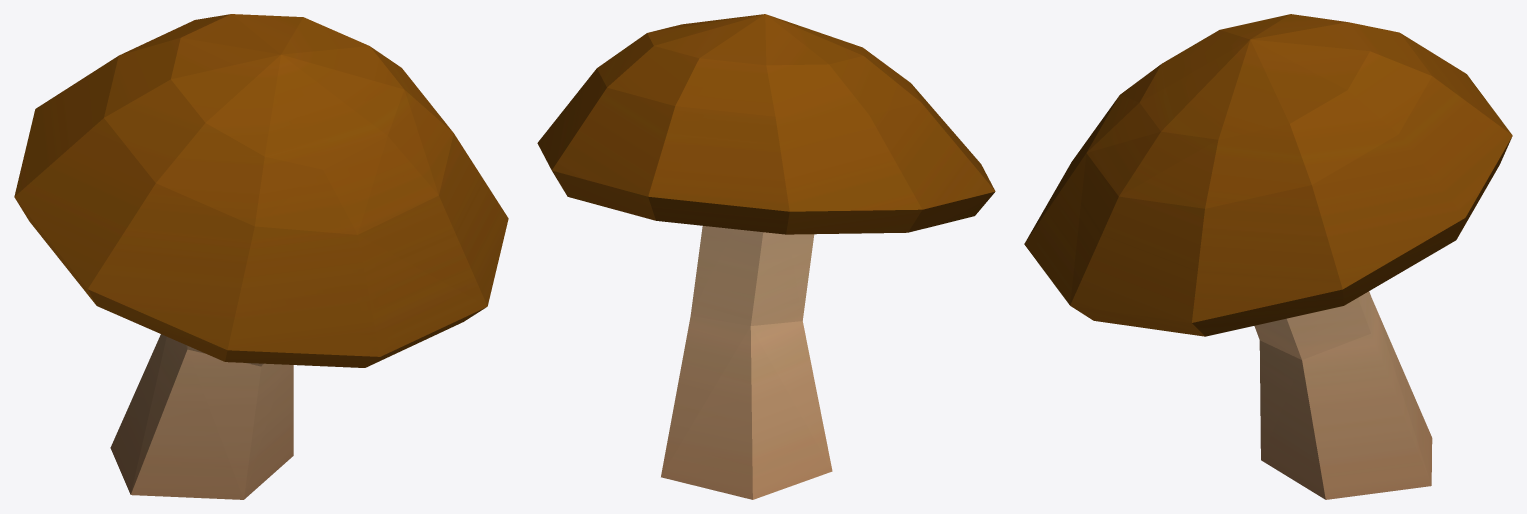
The model's file is mushroom_brown_cap.glb.
3 views of the same model, side by side, from view 1: azimuth 30°, elevation 25°; view 2: azimuth 150°, elevation 25°; view 3: azimuth 270°, elevation 25° (orthographic). The views are drawn at different scales.
Parts seen in each view (by area): view 1: Mushroom 2_7_A; view 2: Mushroom 2_7_A; view 3: Mushroom 2_7_A.
Boxes of the visible parts, left/top/right/bottom form: Mushroom 2_7_A: left=14, top=14, right=508, bottom=499; Mushroom 2_7_A: left=537, top=14, right=995, bottom=499; Mushroom 2_7_A: left=1024, top=14, right=1512, bottom=499.
Size of the model in its own units: 0.2605 by 0.26 by 0.2641.
1 material, 1 textured.
